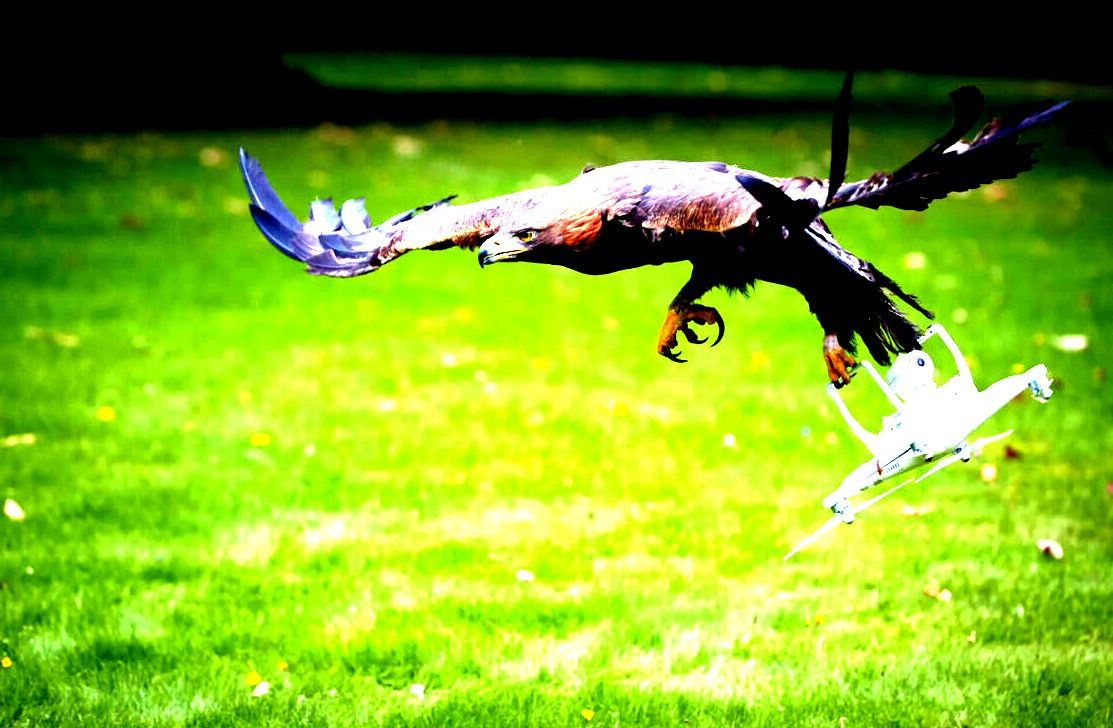Bird: (229, 67, 1075, 396)
Drone: (784, 320, 1062, 563)
